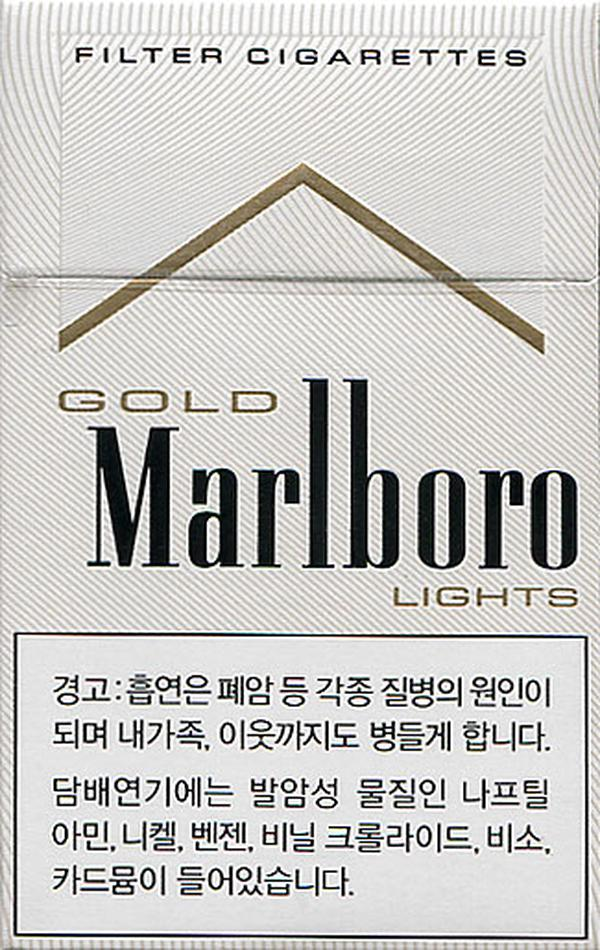marlboro_gold: (6, 11, 587, 942)
